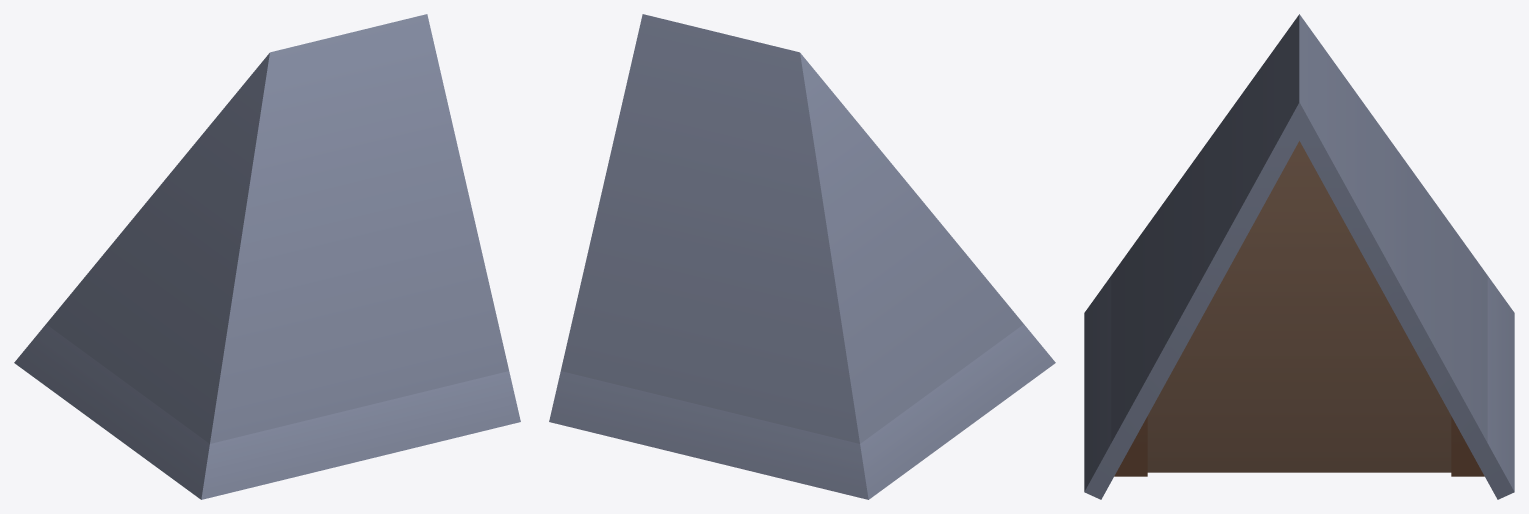
File: roof-high-gable-end.glb
The picture shows the model from 3 angles, left to right: view 1: azimuth 30°, elevation 25°; view 2: azimuth 150°, elevation 25°; view 3: azimuth 270°, elevation 25°; orthographic projection. The views are drawn at different scales.
Parts seen in each view (by area): view 1: roof-high-gable-end; view 2: roof-high-gable-end; view 3: roof-high-gable-end.
Boxes of the visible parts, x1,y1,x2,y2 form: roof-high-gable-end: (14,14,520,499); roof-high-gable-end: (549,14,1055,499); roof-high-gable-end: (1084,14,1514,499).
Bounding box in the file's own units: 1.12 × 1.16 × 1.13.
1 material, 1 textured.
